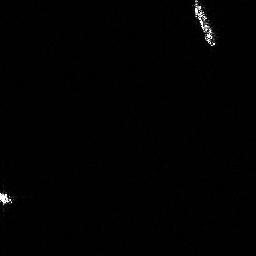ship: (192, 1, 219, 48)
